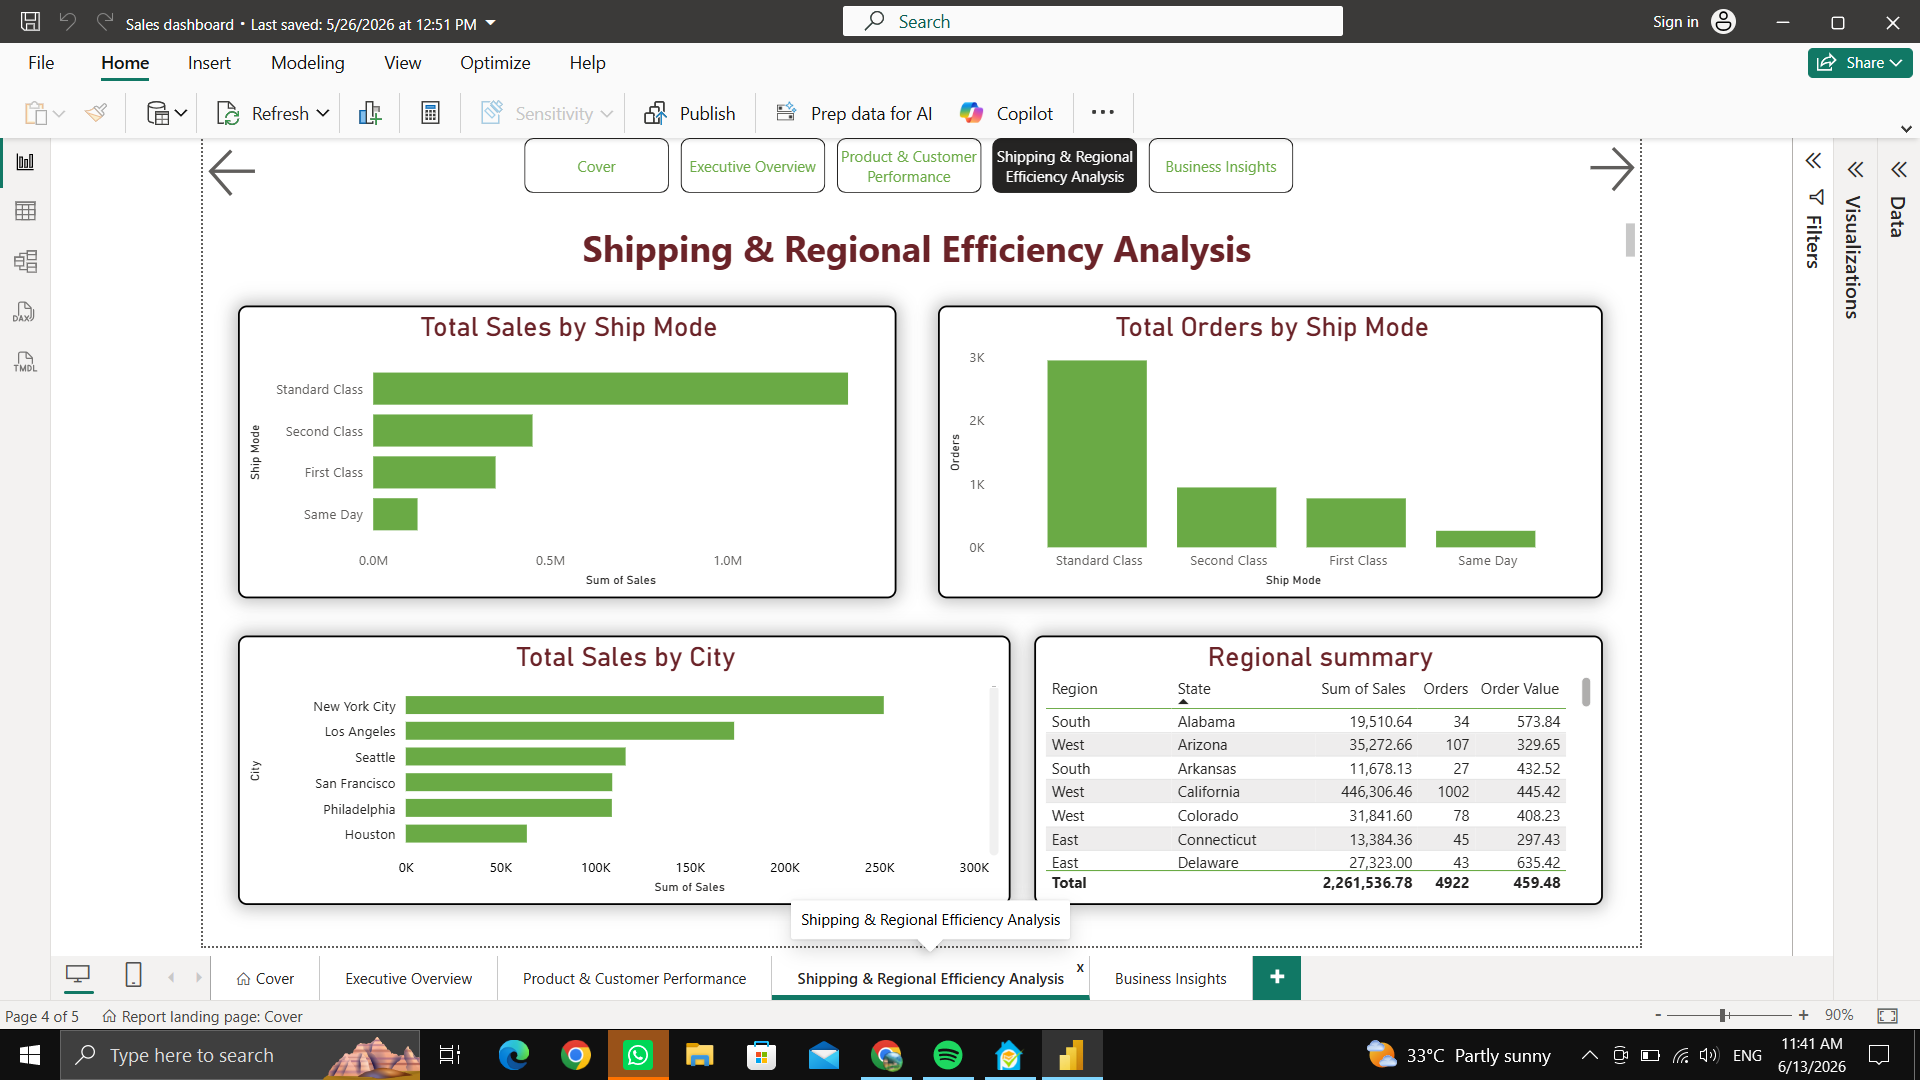

The dashboard page shown, as its layout file describes it:
{"tool":"powerbi","page":{"name":"Shipping & Regional Efficiency Analysis","canvas":[1280,720],"ordinal":3},"visuals":[{"type":"textbox","box":[0,71.2,1280,51.9],"z":0},{"type":"clusteredBarChart","title":"Total Sales by Ship Mode","fields":{"Y":["Sum(train.Sales)"],"Category":["train.Ship Mode"]},"box":[31.4,149.6,586.3,260.6],"z":1000},{"type":"clusteredColumnChart","title":"Total Orders by Ship Mode","fields":{"Y":["train.Orders"],"Category":["train.Ship Mode"]},"box":[655.1,149.6,592.4,260.6],"z":2000},{"type":"clusteredBarChart","title":"Total Sales by City","fields":{"Category":["train.City"],"Y":["Sum(train.Sales)"]},"box":[31.4,442.8,687.7,240.1],"z":3000},{"type":"tableEx","title":"Regional summary","fields":{"Values":["train.Region","train.State","Sum(train.Sales)","train.Orders","train.Order Value"]},"box":[740.8,442.8,506.7,240.1],"z":4000},{"type":"actionButton","box":[1229.4,0,50.7,55.5],"z":4001},{"type":"actionButton","box":[0,4.8,100.1,53.1],"z":4002},{"type":"pageNavigator","box":[285.9,0,688.9,49.5],"z":4003}]}

Visuals, with their boxes on the page's 1280x720 design canvas (x1, y1, x2, y2). These are canvas units, not pixel positions in the 1920x1080 screenshot, which may show the page scaled, cropped or inside an application window:
textbox: bbox(0, 71, 1280, 123)
"Total Sales by Ship Mode" clusteredBarChart: bbox(31, 150, 618, 410)
"Total Orders by Ship Mode" clusteredColumnChart: bbox(655, 150, 1248, 410)
"Total Sales by City" clusteredBarChart: bbox(31, 443, 719, 683)
"Regional summary" tableEx: bbox(741, 443, 1248, 683)
actionButton: bbox(1229, 0, 1280, 56)
actionButton: bbox(0, 5, 100, 58)
pageNavigator: bbox(286, 0, 975, 50)
